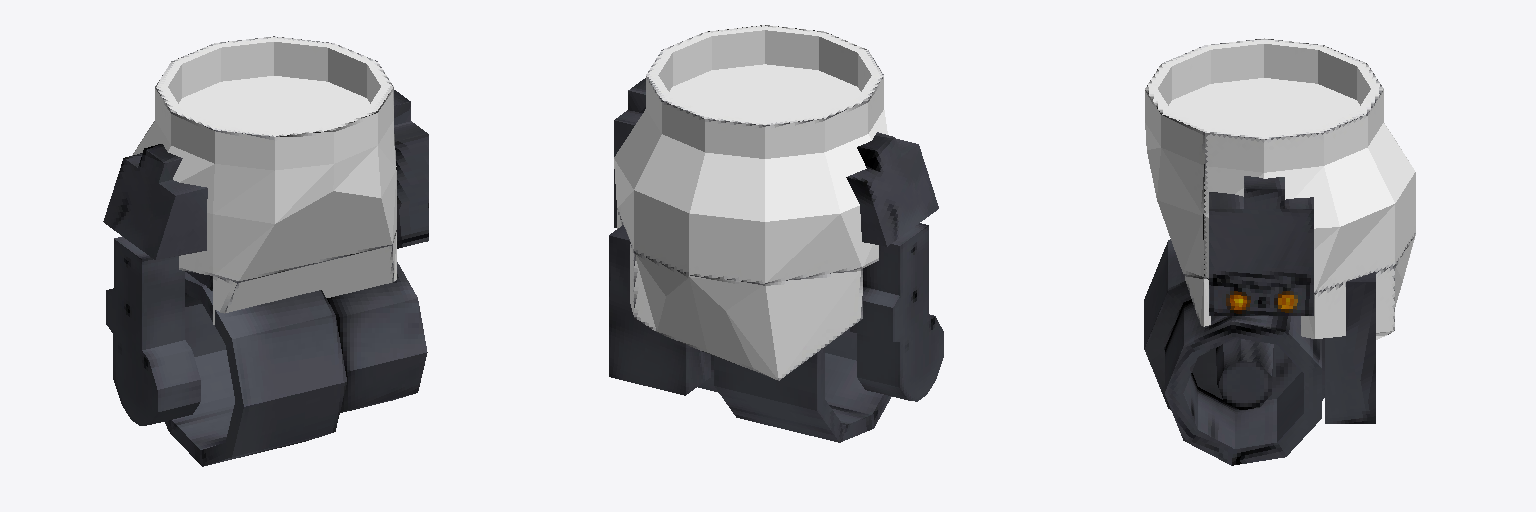
The picture shows the model from 3 angles: view 1: azimuth 30°, elevation 25°; view 2: azimuth 150°, elevation 25°; view 3: azimuth 270°, elevation 25°; orthographic projection.
Parts seen in each view (by area): view 1: r_uarm; view 2: r_uarm; view 3: r_uarm.
Part boxes in pixels (x1,y1,x2,y2): r_uarm: (103, 36, 428, 466); r_uarm: (609, 25, 943, 442); r_uarm: (1144, 38, 1415, 465).
Bounding box in the file's own units: 0.1475 × 0.1769 × 0.1261.
Materials: 1 (1 with a texture image).